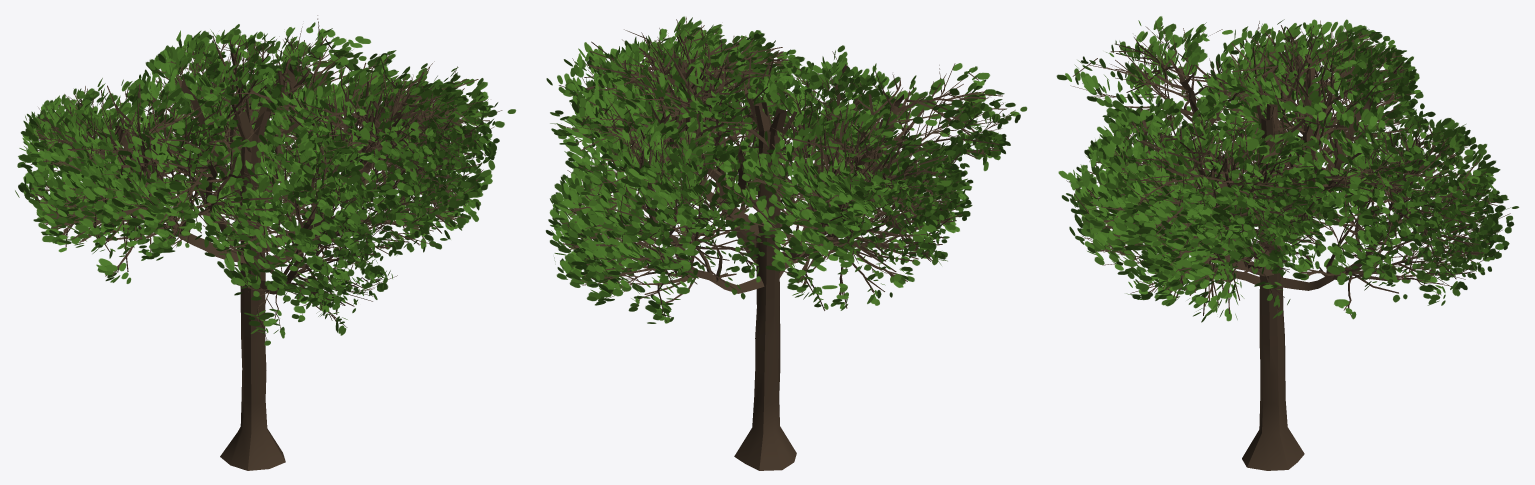
The picture shows the model from 3 angles, left to right: view 1: azimuth 30°, elevation 25°; view 2: azimuth 150°, elevation 25°; view 3: azimuth 270°, elevation 25°; orthographic projection.
Parts seen in each view (by area): view 1: oak 01.001_trunk_Mat.001_0.055; view 2: oak 01.001_trunk_Mat.001_0.055; view 3: oak 01.001_trunk_Mat.001_0.055.
Boxes of the visible parts, box(x1,y1,x2,y2) form: oak 01.001_trunk_Mat.001_0.055: box(15, 15, 516, 470); oak 01.001_trunk_Mat.001_0.055: box(545, 16, 1027, 470); oak 01.001_trunk_Mat.001_0.055: box(1056, 16, 1518, 470).
Size of the model in its own units: 5.51 by 4.39 by 5.06.
2 materials, 1 textured.
